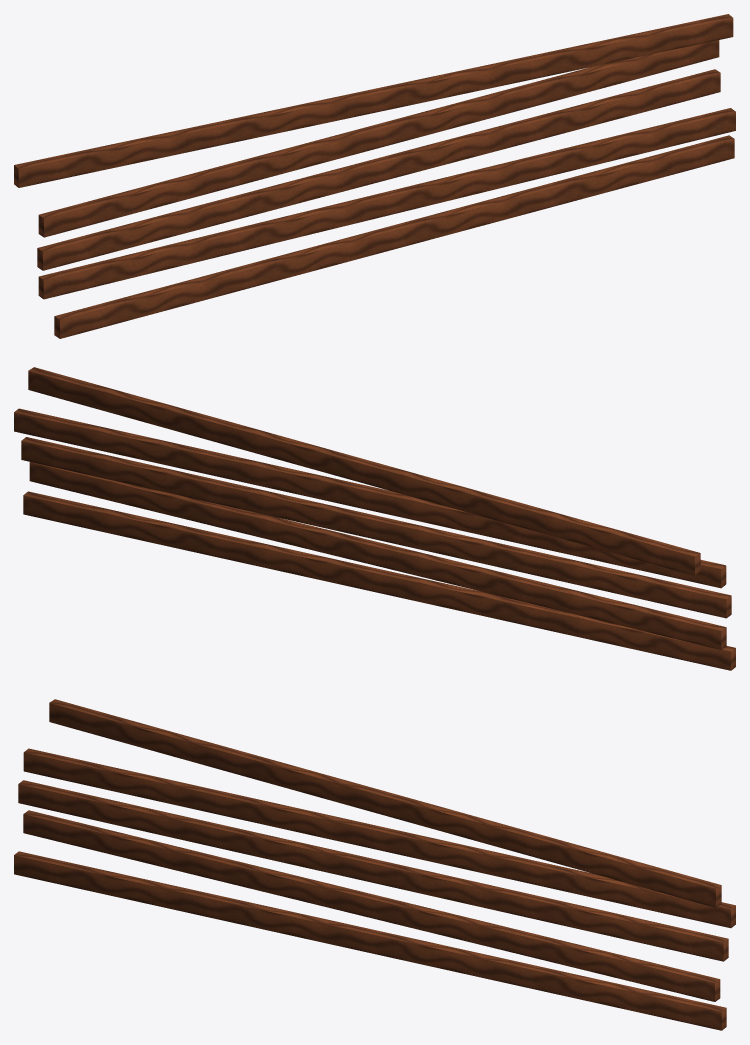
Rendered from COB-MAD-001_anim.glb.
The picture shows the model from 3 angles, top to bottom: view 1: azimuth 30°, elevation 25°; view 2: azimuth 150°, elevation 25°; view 3: azimuth 330°, elevation 25°; orthographic projection.
Parts seen in each view (by area): view 1: COB-MAD-001_anim4, COB-MAD-001_anim1, COB-MAD-001_anim2, COB-MAD-001_anim0, COB-MAD-001_anim3; view 2: COB-MAD-001_anim2, COB-MAD-001_anim0, COB-MAD-001_anim4, COB-MAD-001_anim1, COB-MAD-001_anim3; view 3: COB-MAD-001_anim0, COB-MAD-001_anim2, COB-MAD-001_anim1, COB-MAD-001_anim3, COB-MAD-001_anim4.
Boxes of the visible parts, x1,y1,x2,y2 form: COB-MAD-001_anim4: (14, 14, 733, 187); COB-MAD-001_anim1: (38, 108, 735, 299); COB-MAD-001_anim2: (37, 69, 720, 270); COB-MAD-001_anim0: (54, 135, 734, 338); COB-MAD-001_anim3: (38, 40, 719, 237); COB-MAD-001_anim2: (21, 437, 731, 618); COB-MAD-001_anim0: (23, 491, 735, 670); COB-MAD-001_anim4: (28, 367, 700, 575); COB-MAD-001_anim1: (29, 462, 726, 649); COB-MAD-001_anim3: (14, 408, 726, 588); COB-MAD-001_anim0: (14, 851, 726, 1030); COB-MAD-001_anim2: (18, 780, 728, 961); COB-MAD-001_anim1: (23, 810, 720, 1001); COB-MAD-001_anim3: (23, 748, 735, 928); COB-MAD-001_anim4: (49, 699, 721, 907).
Bounding box in the file's own units: 4.54 × 0.888 × 0.491.
Materials: 1 (1 with a texture image).
